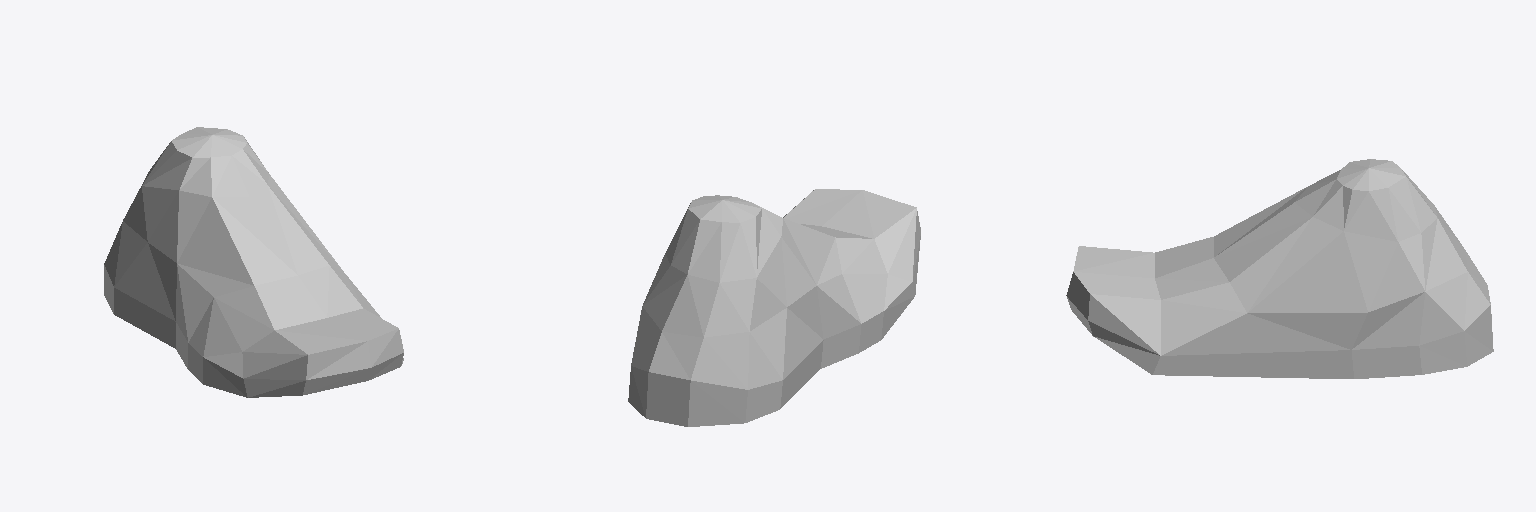
Rendered from meshLeftFoot.obj.
3 renders of one model, left to right at view 1: azimuth 30°, elevation 25°; view 2: azimuth 150°, elevation 25°; view 3: azimuth 270°, elevation 25°, orthographic.
Visible parts, largest first — view 1: Scene_104_mesh_mesh0; view 2: Scene_104_mesh_mesh0; view 3: Scene_104_mesh_mesh0.
Part boxes in pixels (x1,y1,x2,y2): Scene_104_mesh_mesh0: (104, 127, 403, 397); Scene_104_mesh_mesh0: (628, 189, 920, 426); Scene_104_mesh_mesh0: (1066, 159, 1493, 378).
Bounding box in the file's own units: 0.3014 × 0.3014 × 0.6605.